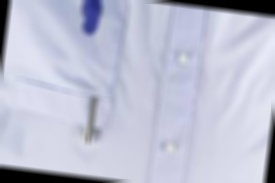ink: (80, 0, 104, 36)
